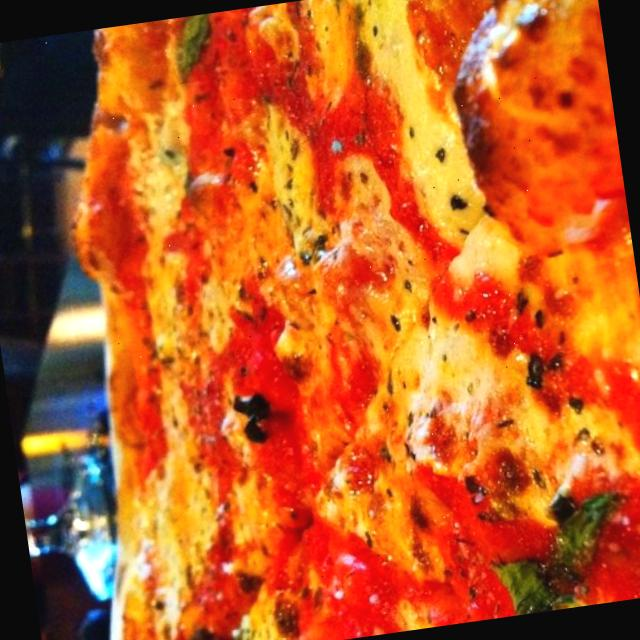basil: (478, 484, 640, 617), (168, 15, 226, 84)
cheese: (358, 332, 573, 520), (380, 119, 530, 342), (121, 92, 216, 390), (248, 101, 356, 313), (295, 0, 450, 140), (122, 448, 231, 592)
pizza: (75, 0, 640, 640)
